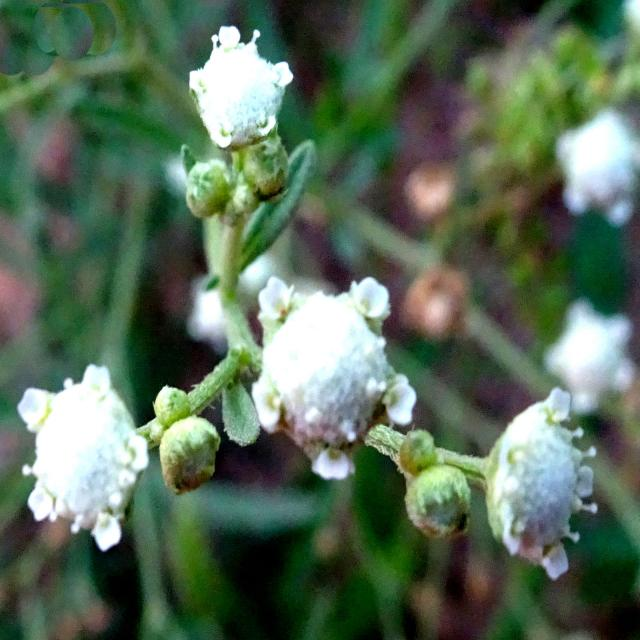Poisonous-Parthenium: (383, 369, 638, 597), (252, 258, 423, 484), (175, 21, 336, 252), (0, 377, 181, 556)
